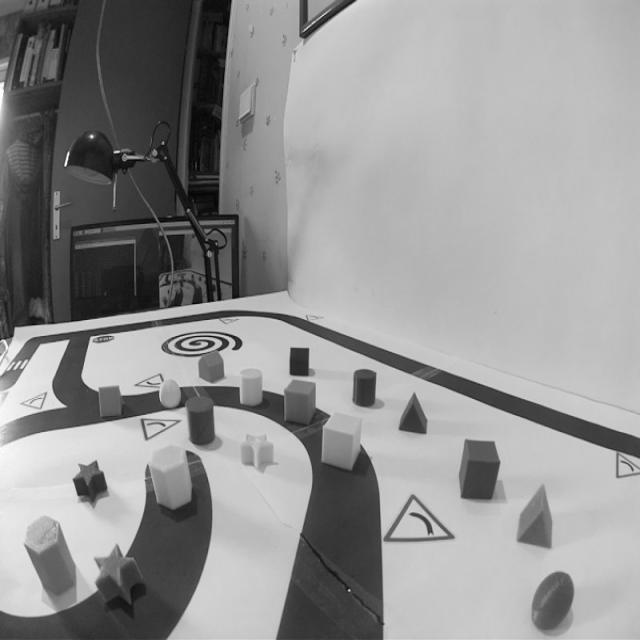ball: (526, 566, 578, 638), (156, 377, 184, 413)
cube: (457, 435, 503, 505), (318, 407, 365, 475), (282, 376, 319, 431)
cylinder: (184, 393, 219, 448), (351, 364, 379, 415), (238, 366, 265, 412)
hexagon: (21, 509, 80, 604), (146, 440, 198, 516)
home: (198, 347, 228, 385)
laneLeftTurn: (278, 435, 390, 640)
nest: (159, 325, 243, 362)
star: (89, 542, 146, 610), (235, 427, 278, 477), (71, 456, 111, 508)
triangle: (514, 478, 558, 554), (395, 386, 431, 436), (96, 382, 128, 423)
